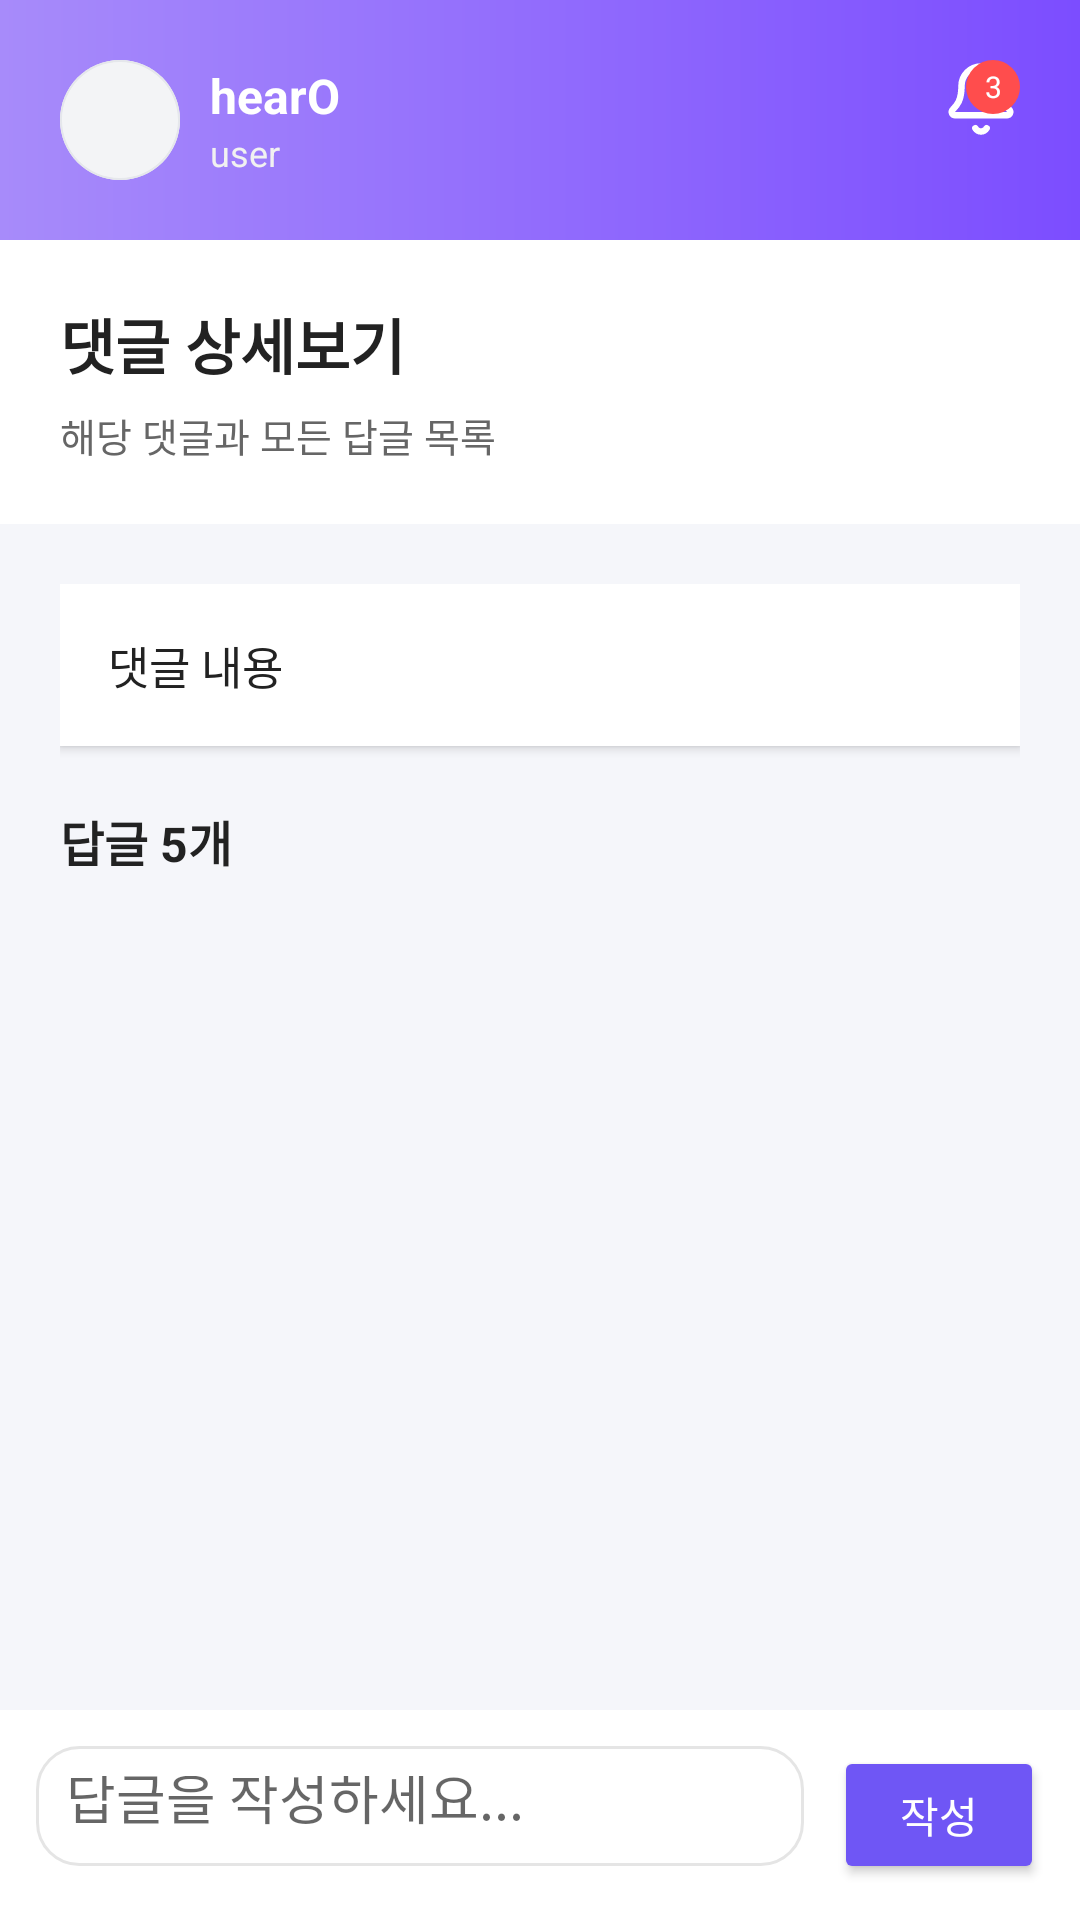

Icon bounding boxes for this 1080*1920 phone screenshot, format bbox=[x1, y1, x2, y2]:
alarm: bbox=[948, 60, 1020, 135]
